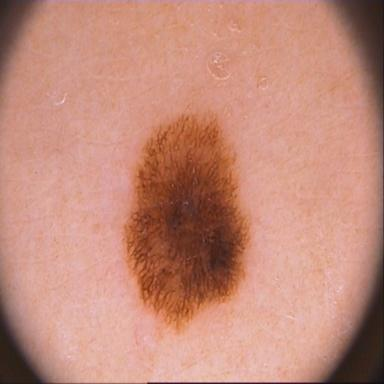nevus: (123, 105, 251, 329)
